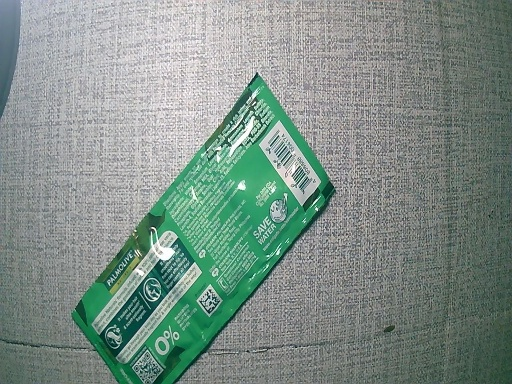plastic: (69, 74, 337, 381)
